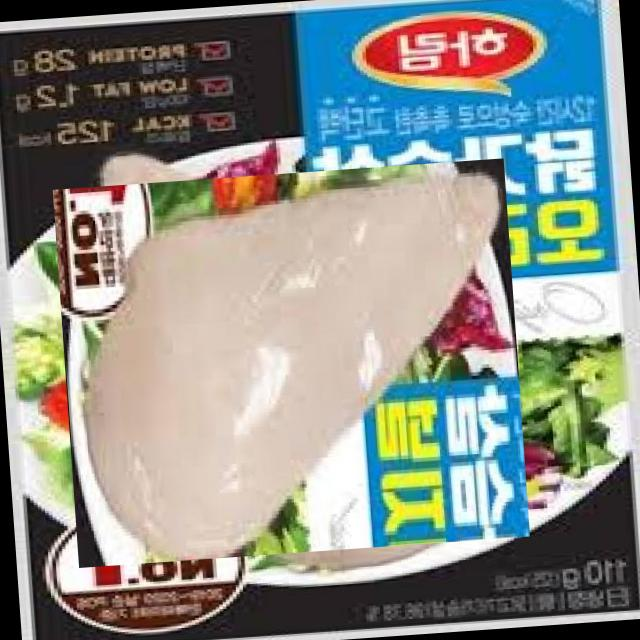chicken: (69, 140, 513, 584)
